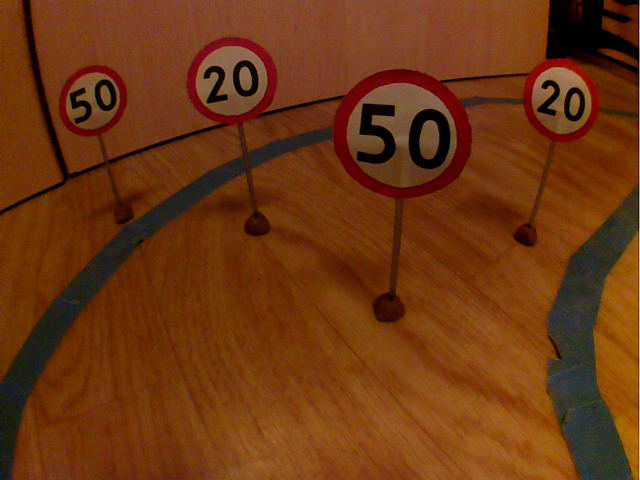Ograniczenie 20: (179, 32, 284, 128), (519, 53, 601, 147)
Ograniczenie 50: (326, 64, 477, 204), (54, 61, 131, 138)
